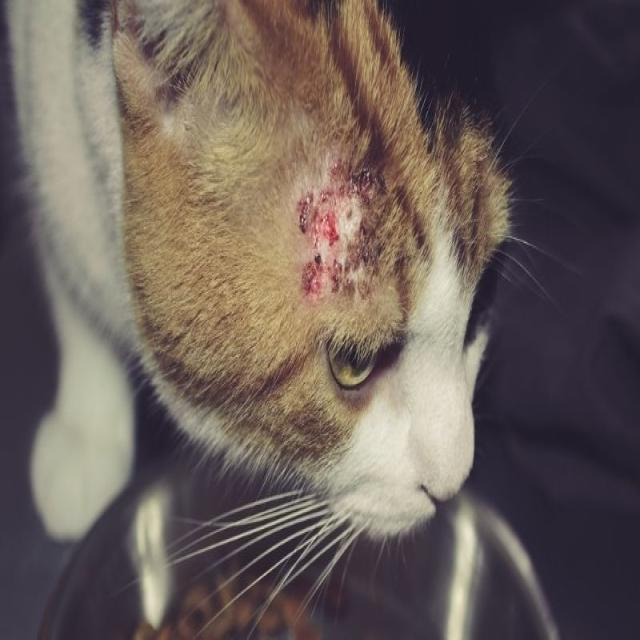cat-ringworm: (301, 170, 367, 292)
